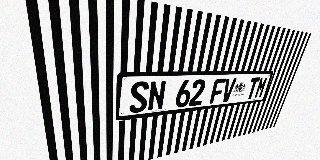2: (189, 79, 206, 106)
6: (175, 80, 193, 108)
F: (209, 78, 226, 104)
M: (254, 77, 268, 98)
N: (147, 80, 167, 111)
S: (129, 81, 149, 114)
T: (245, 77, 260, 99)
V: (220, 78, 237, 102)
